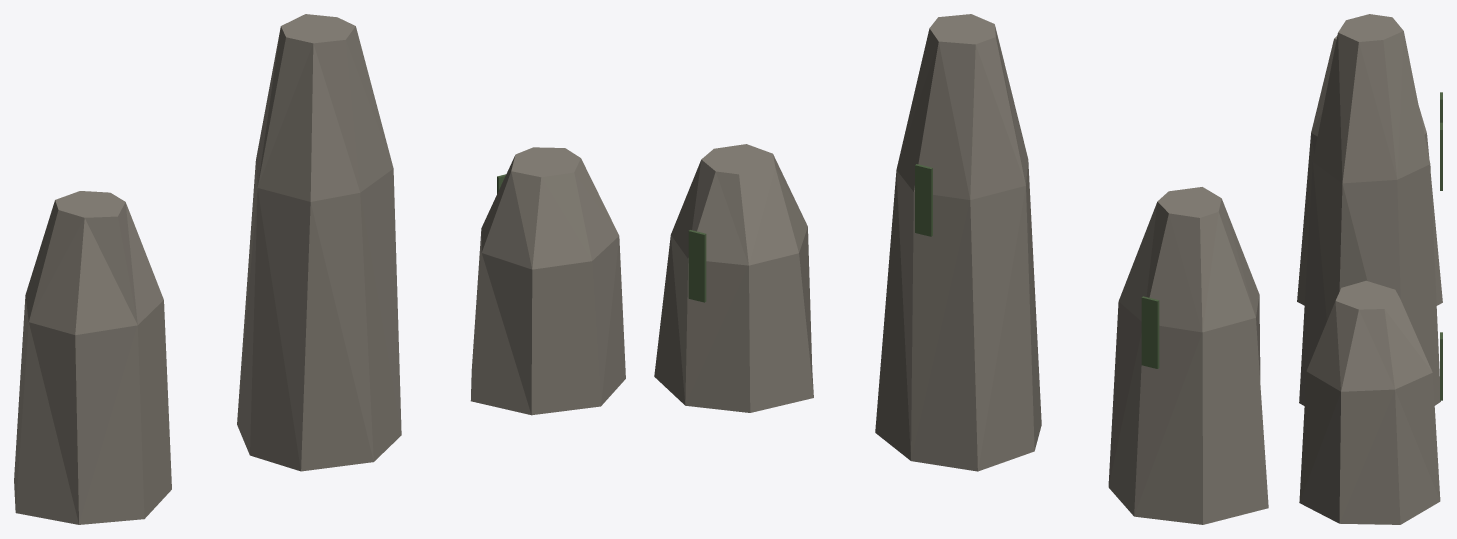
The model's file is Decor_StandingStones.fbx.
3 views of the same model, side by side, from view 1: azimuth 30°, elevation 25°; view 2: azimuth 150°, elevation 25°; view 3: azimuth 270°, elevation 25° (orthographic). The views are drawn at different scales.
Visible parts, largest first — view 1: Decor_StandingStones; view 2: Decor_StandingStones; view 3: Decor_StandingStones.
Boxes of the visible parts, left/top/right/bottom form: Decor_StandingStones: left=14, top=14, right=625, bottom=524; Decor_StandingStones: left=654, top=14, right=1268, bottom=524; Decor_StandingStones: left=1297, top=14, right=1442, bottom=524.
Bounding box in the file's own units: 3.68 × 2.4 × 0.8634.
